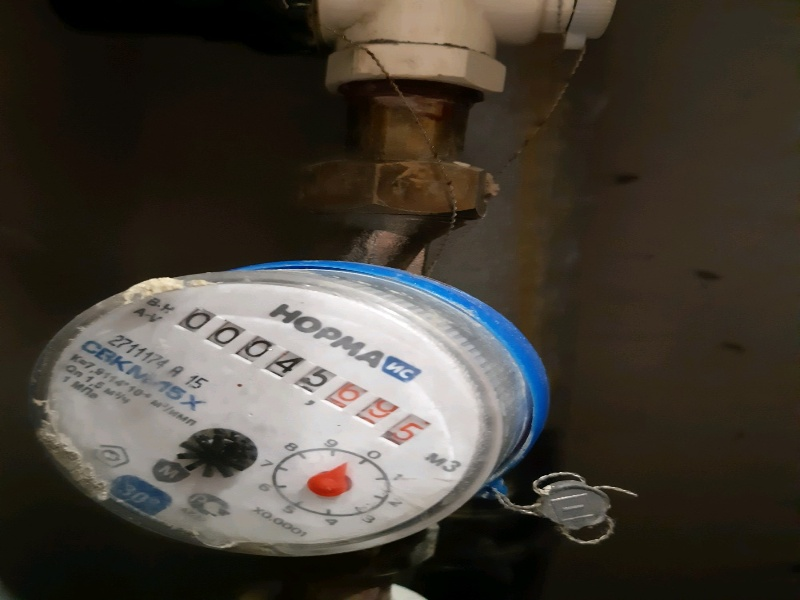meter: (179, 347, 433, 405)
